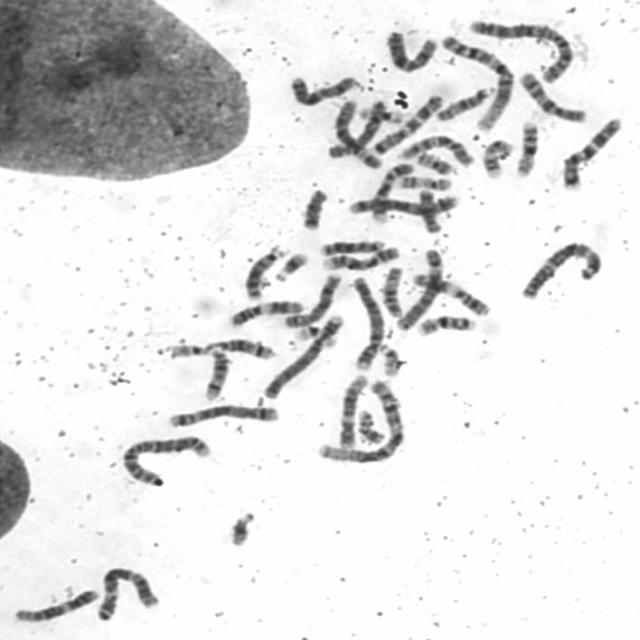A1: (312, 374, 407, 464), (438, 32, 515, 132)
A2: (466, 15, 575, 84), (119, 432, 214, 488)
A3: (516, 238, 606, 302), (93, 564, 161, 622)
B4: (259, 310, 347, 400), (348, 274, 385, 371)
B5: (165, 401, 282, 429), (344, 191, 463, 217)
C10: (514, 66, 590, 124), (392, 132, 475, 167)
C11: (408, 270, 494, 318), (224, 296, 306, 329)
C12: (10, 585, 102, 624), (333, 372, 368, 451)
C6: (392, 245, 447, 334), (334, 98, 384, 172)
C7: (558, 114, 624, 192), (368, 92, 446, 156)
C8: (280, 270, 344, 331), (327, 99, 388, 160)
C9: (369, 158, 416, 224), (317, 243, 404, 272)
D13: (240, 240, 285, 302), (315, 236, 387, 257)
D14: (200, 334, 278, 361), (199, 344, 232, 402)
D15: (435, 83, 497, 122), (379, 263, 406, 320)
E16: (413, 311, 478, 338), (512, 118, 540, 178)
E17: (479, 136, 514, 180), (393, 172, 453, 191)
E18: (414, 185, 444, 235), (299, 185, 330, 231)
F19: (293, 324, 340, 349), (355, 104, 405, 126)
F20: (412, 148, 459, 177), (355, 405, 385, 445)
G21: (225, 507, 258, 549), (270, 249, 310, 283)
G22: (376, 340, 402, 378), (167, 344, 206, 358)
X: (382, 26, 440, 74), (286, 71, 361, 108)
